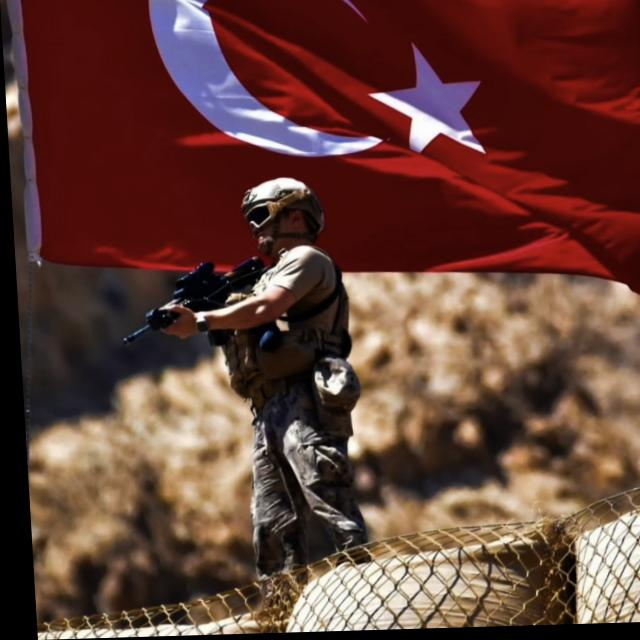poh_personel: (150, 177, 365, 580)
